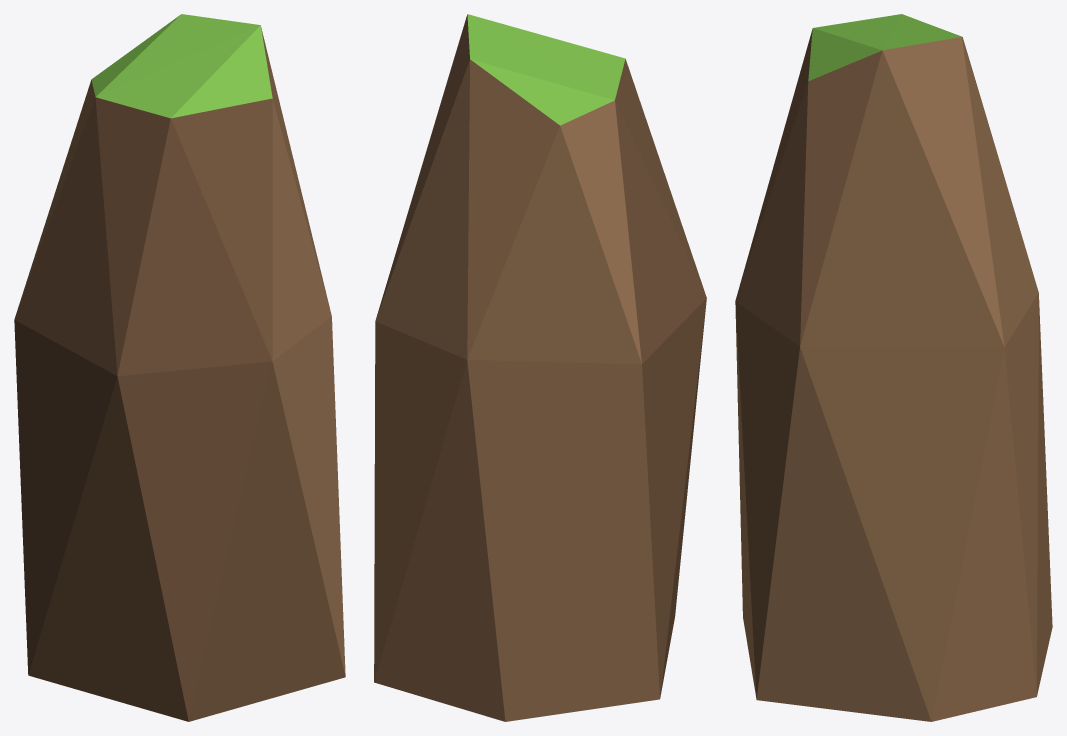
Rendered from rock_tallI.glb.
The picture shows the model from 3 angles, left to right: view 1: azimuth 30°, elevation 25°; view 2: azimuth 150°, elevation 25°; view 3: azimuth 270°, elevation 25°; orthographic projection. The views are drawn at different scales.
Visible parts, largest first — view 1: rock_tallI; view 2: rock_tallI; view 3: rock_tallI.
Boxes of the visible parts, x1,y1,x2,y2 form: rock_tallI: (14,14,345,721); rock_tallI: (374,14,706,721); rock_tallI: (735,14,1052,721).
Size of the model in its own units: 0.3789 by 0.7956 by 0.3588.
Materials: 1 (1 with a texture image).
